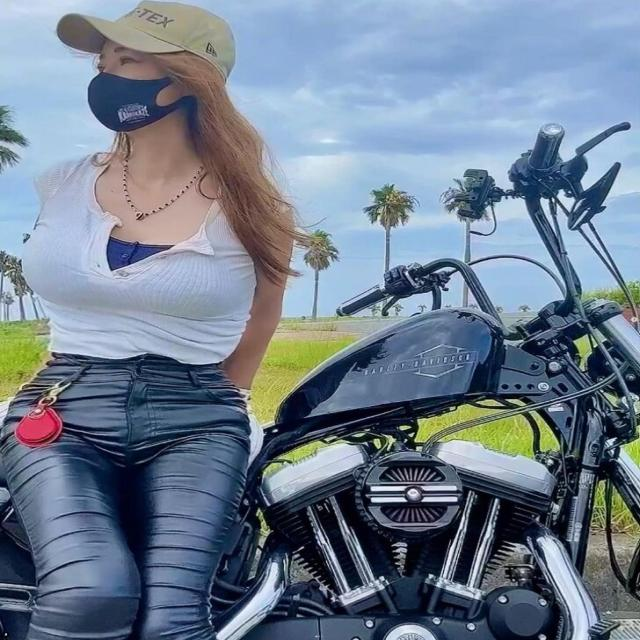illegal_helmet: (48, 0, 244, 137)
